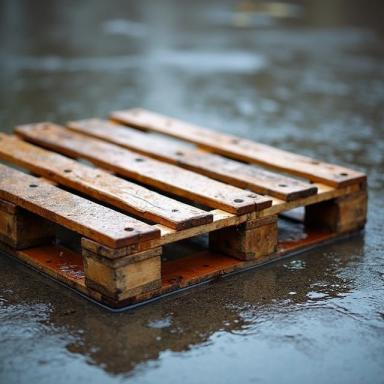pallet: (0, 107, 368, 310)
